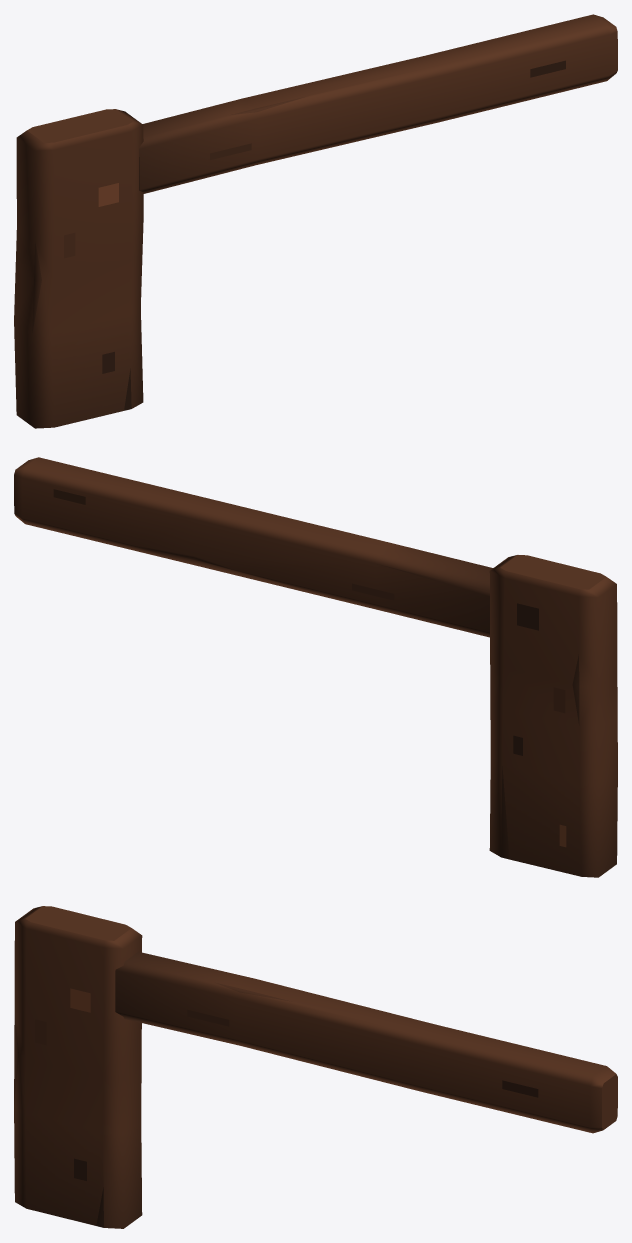
Rendered from FenceModularLow.fbx.
3 renders of one model, top to bottom at view 1: azimuth 30°, elevation 25°; view 2: azimuth 150°, elevation 25°; view 3: azimuth 330°, elevation 25°, orthographic.
Visible parts, largest first — view 1: Fence_Modular_Low; view 2: Fence_Modular_Low; view 3: Fence_Modular_Low.
Boxes of the visible parts, x1,y1,x2,y2 form: Fence_Modular_Low: [14, 14, 617, 428]; Fence_Modular_Low: [14, 457, 617, 877]; Fence_Modular_Low: [14, 906, 617, 1228].
Bounding box in the file's own units: 3.29 × 1.52 × 0.2849.
